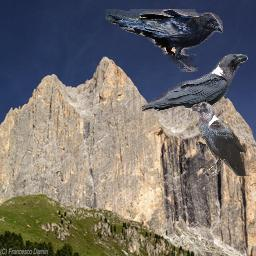Crow: (105, 9, 223, 72), (140, 54, 248, 112), (190, 101, 247, 176)
